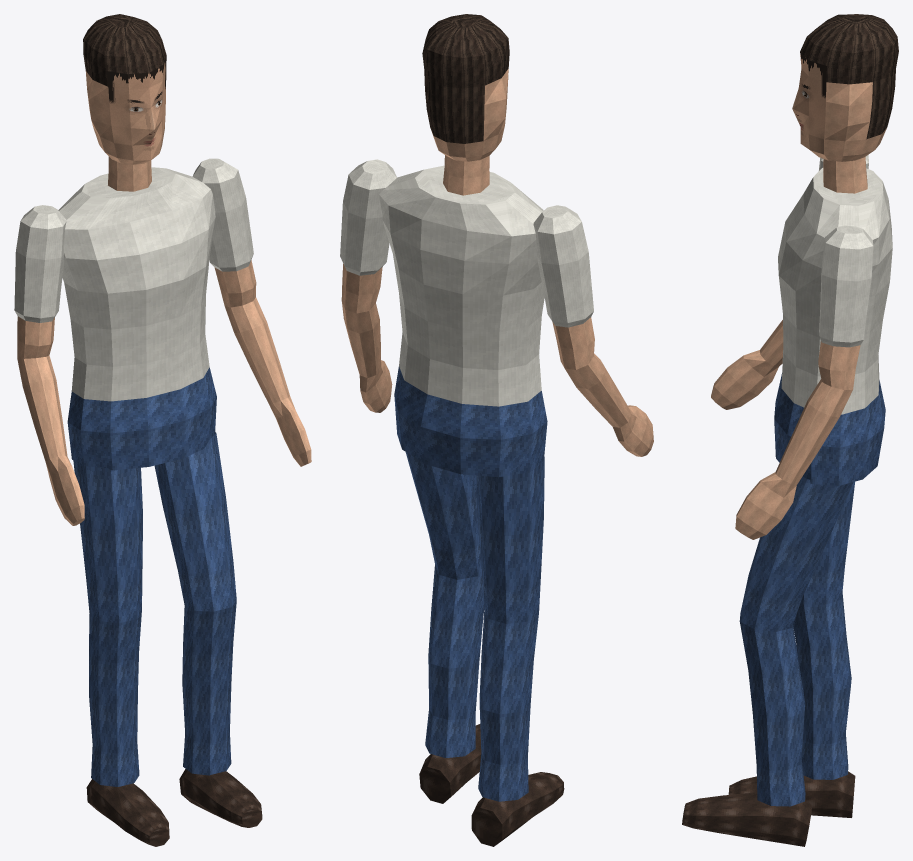
File: walk_01.obj
The picture shows the model from 3 angles, left to right: view 1: azimuth 30°, elevation 25°; view 2: azimuth 150°, elevation 25°; view 3: azimuth 270°, elevation 25°; orthographic projection. The views are drawn at different scales.
Size of the model in its own units: 0.6296 by 1.85 by 0.4517.
25 materials, 25 textured.
